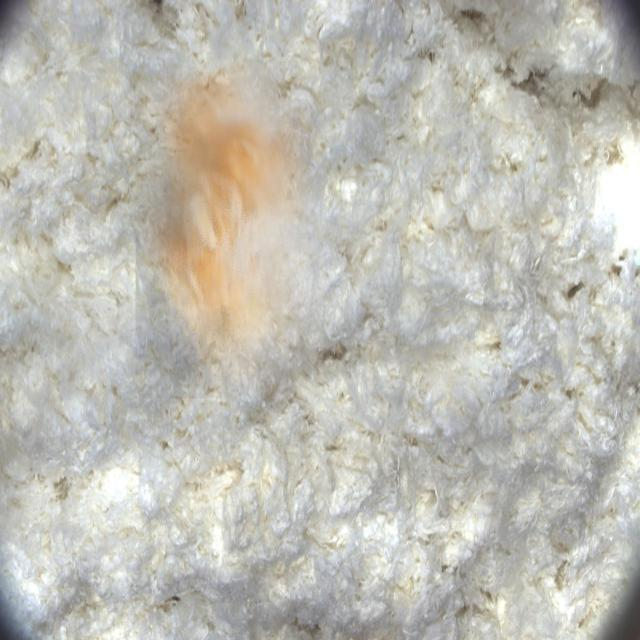dust: (136, 63, 323, 399)
